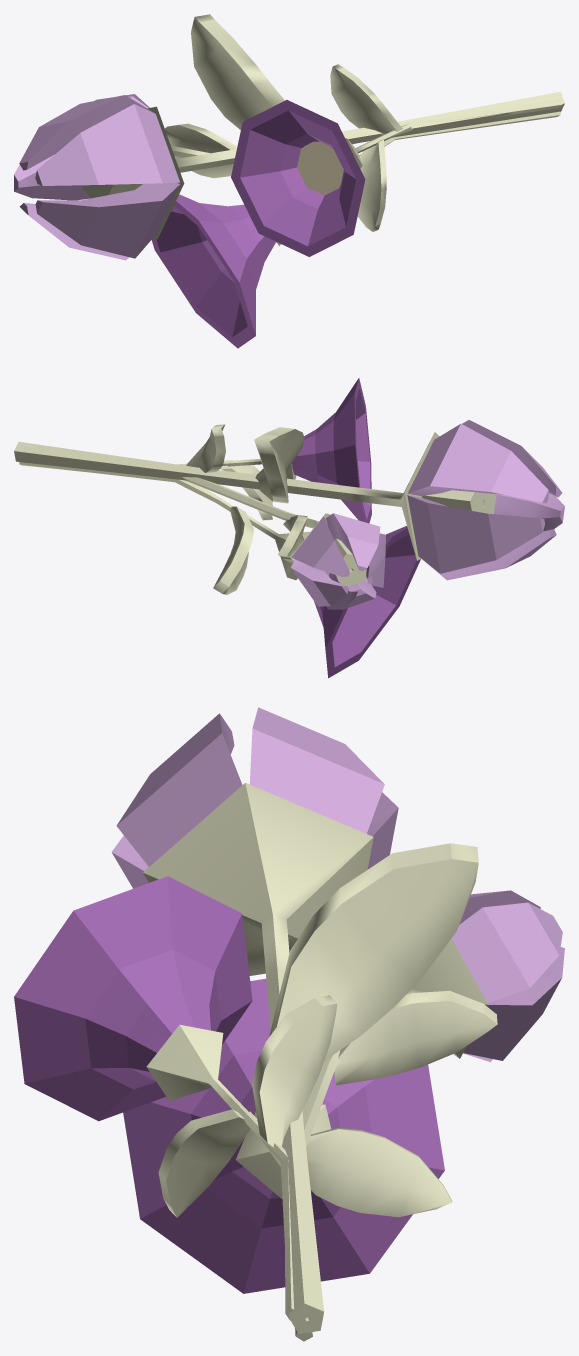
Rendered from Flower.fbx.
3 renders of one model, top to bottom at view 1: azimuth 30°, elevation 25°; view 2: azimuth 150°, elevation 25°; view 3: azimuth 270°, elevation 25°, orthographic. The views are drawn at different scales.
Visible parts, largest first — view 1: pCube8; view 2: pCube8; view 3: pCube8.
Boxes of the visible parts, bbox=[...] form: pCube8: bbox=[14, 14, 564, 348]; pCube8: bbox=[14, 378, 564, 678]; pCube8: bbox=[14, 707, 564, 1341].
Size of the model in its own units: 169 by 82.03 by 86.42.
